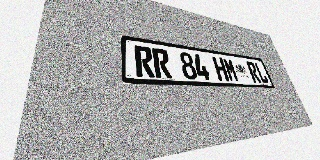4: (192, 53, 211, 80)
8: (179, 52, 198, 80)
H: (212, 56, 230, 81)
L: (254, 62, 269, 83)
M: (222, 58, 240, 82)
R: (134, 45, 155, 78), (152, 48, 172, 78), (246, 61, 262, 83)
